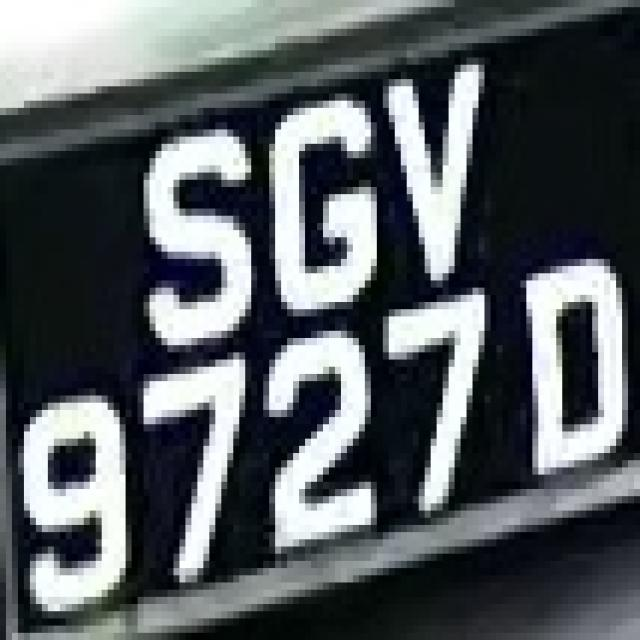2: (257, 331, 389, 575)
7: (365, 295, 514, 539), (126, 338, 251, 597)
9: (18, 381, 143, 640)
D: (508, 237, 640, 496)
G: (257, 100, 371, 324)
S: (120, 115, 275, 360)
V: (353, 43, 508, 288)
